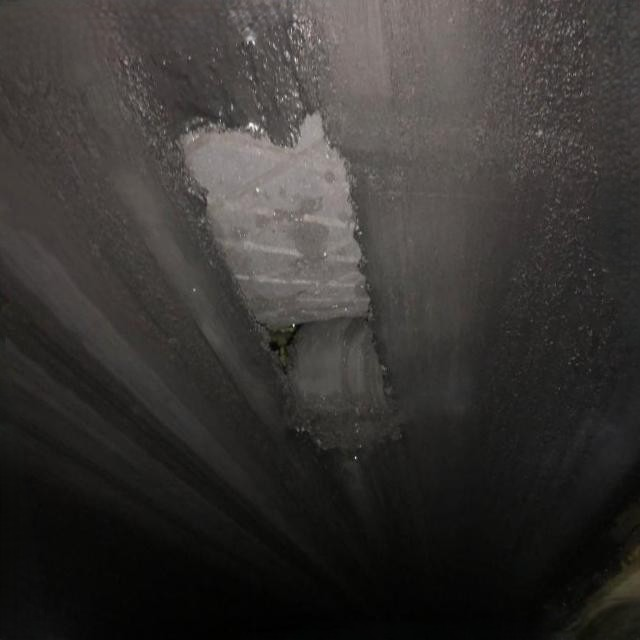Tear: (247, 304, 395, 423)
Wear: (152, 93, 403, 459)
